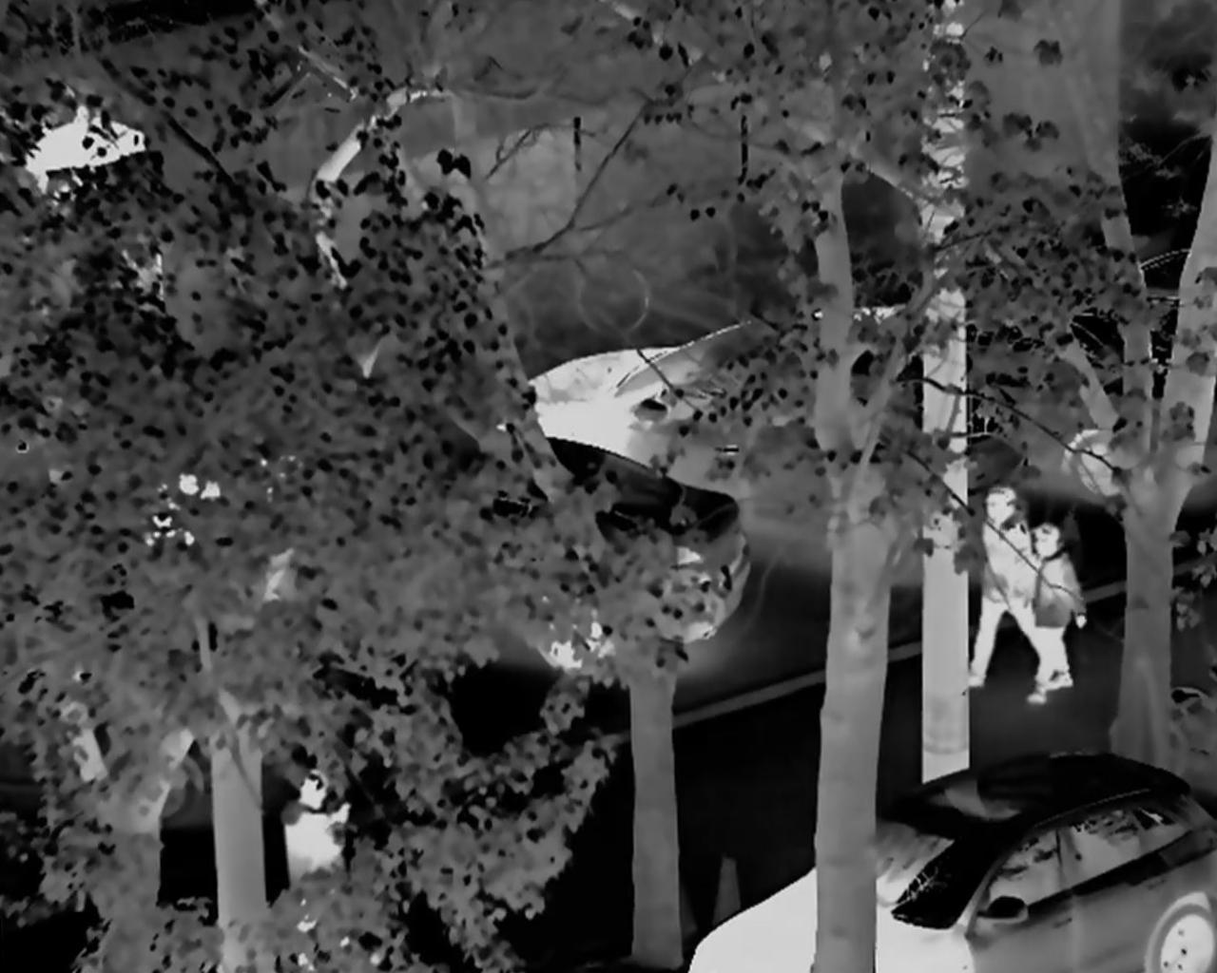person: (269, 763, 355, 973), (968, 482, 1035, 691), (1027, 515, 1094, 717)
